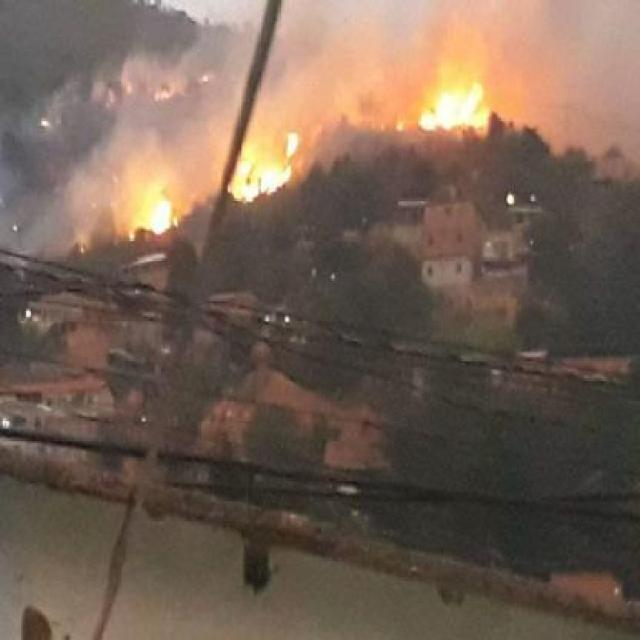Fire: (226, 132, 302, 202), (417, 80, 488, 136), (129, 192, 174, 235)
